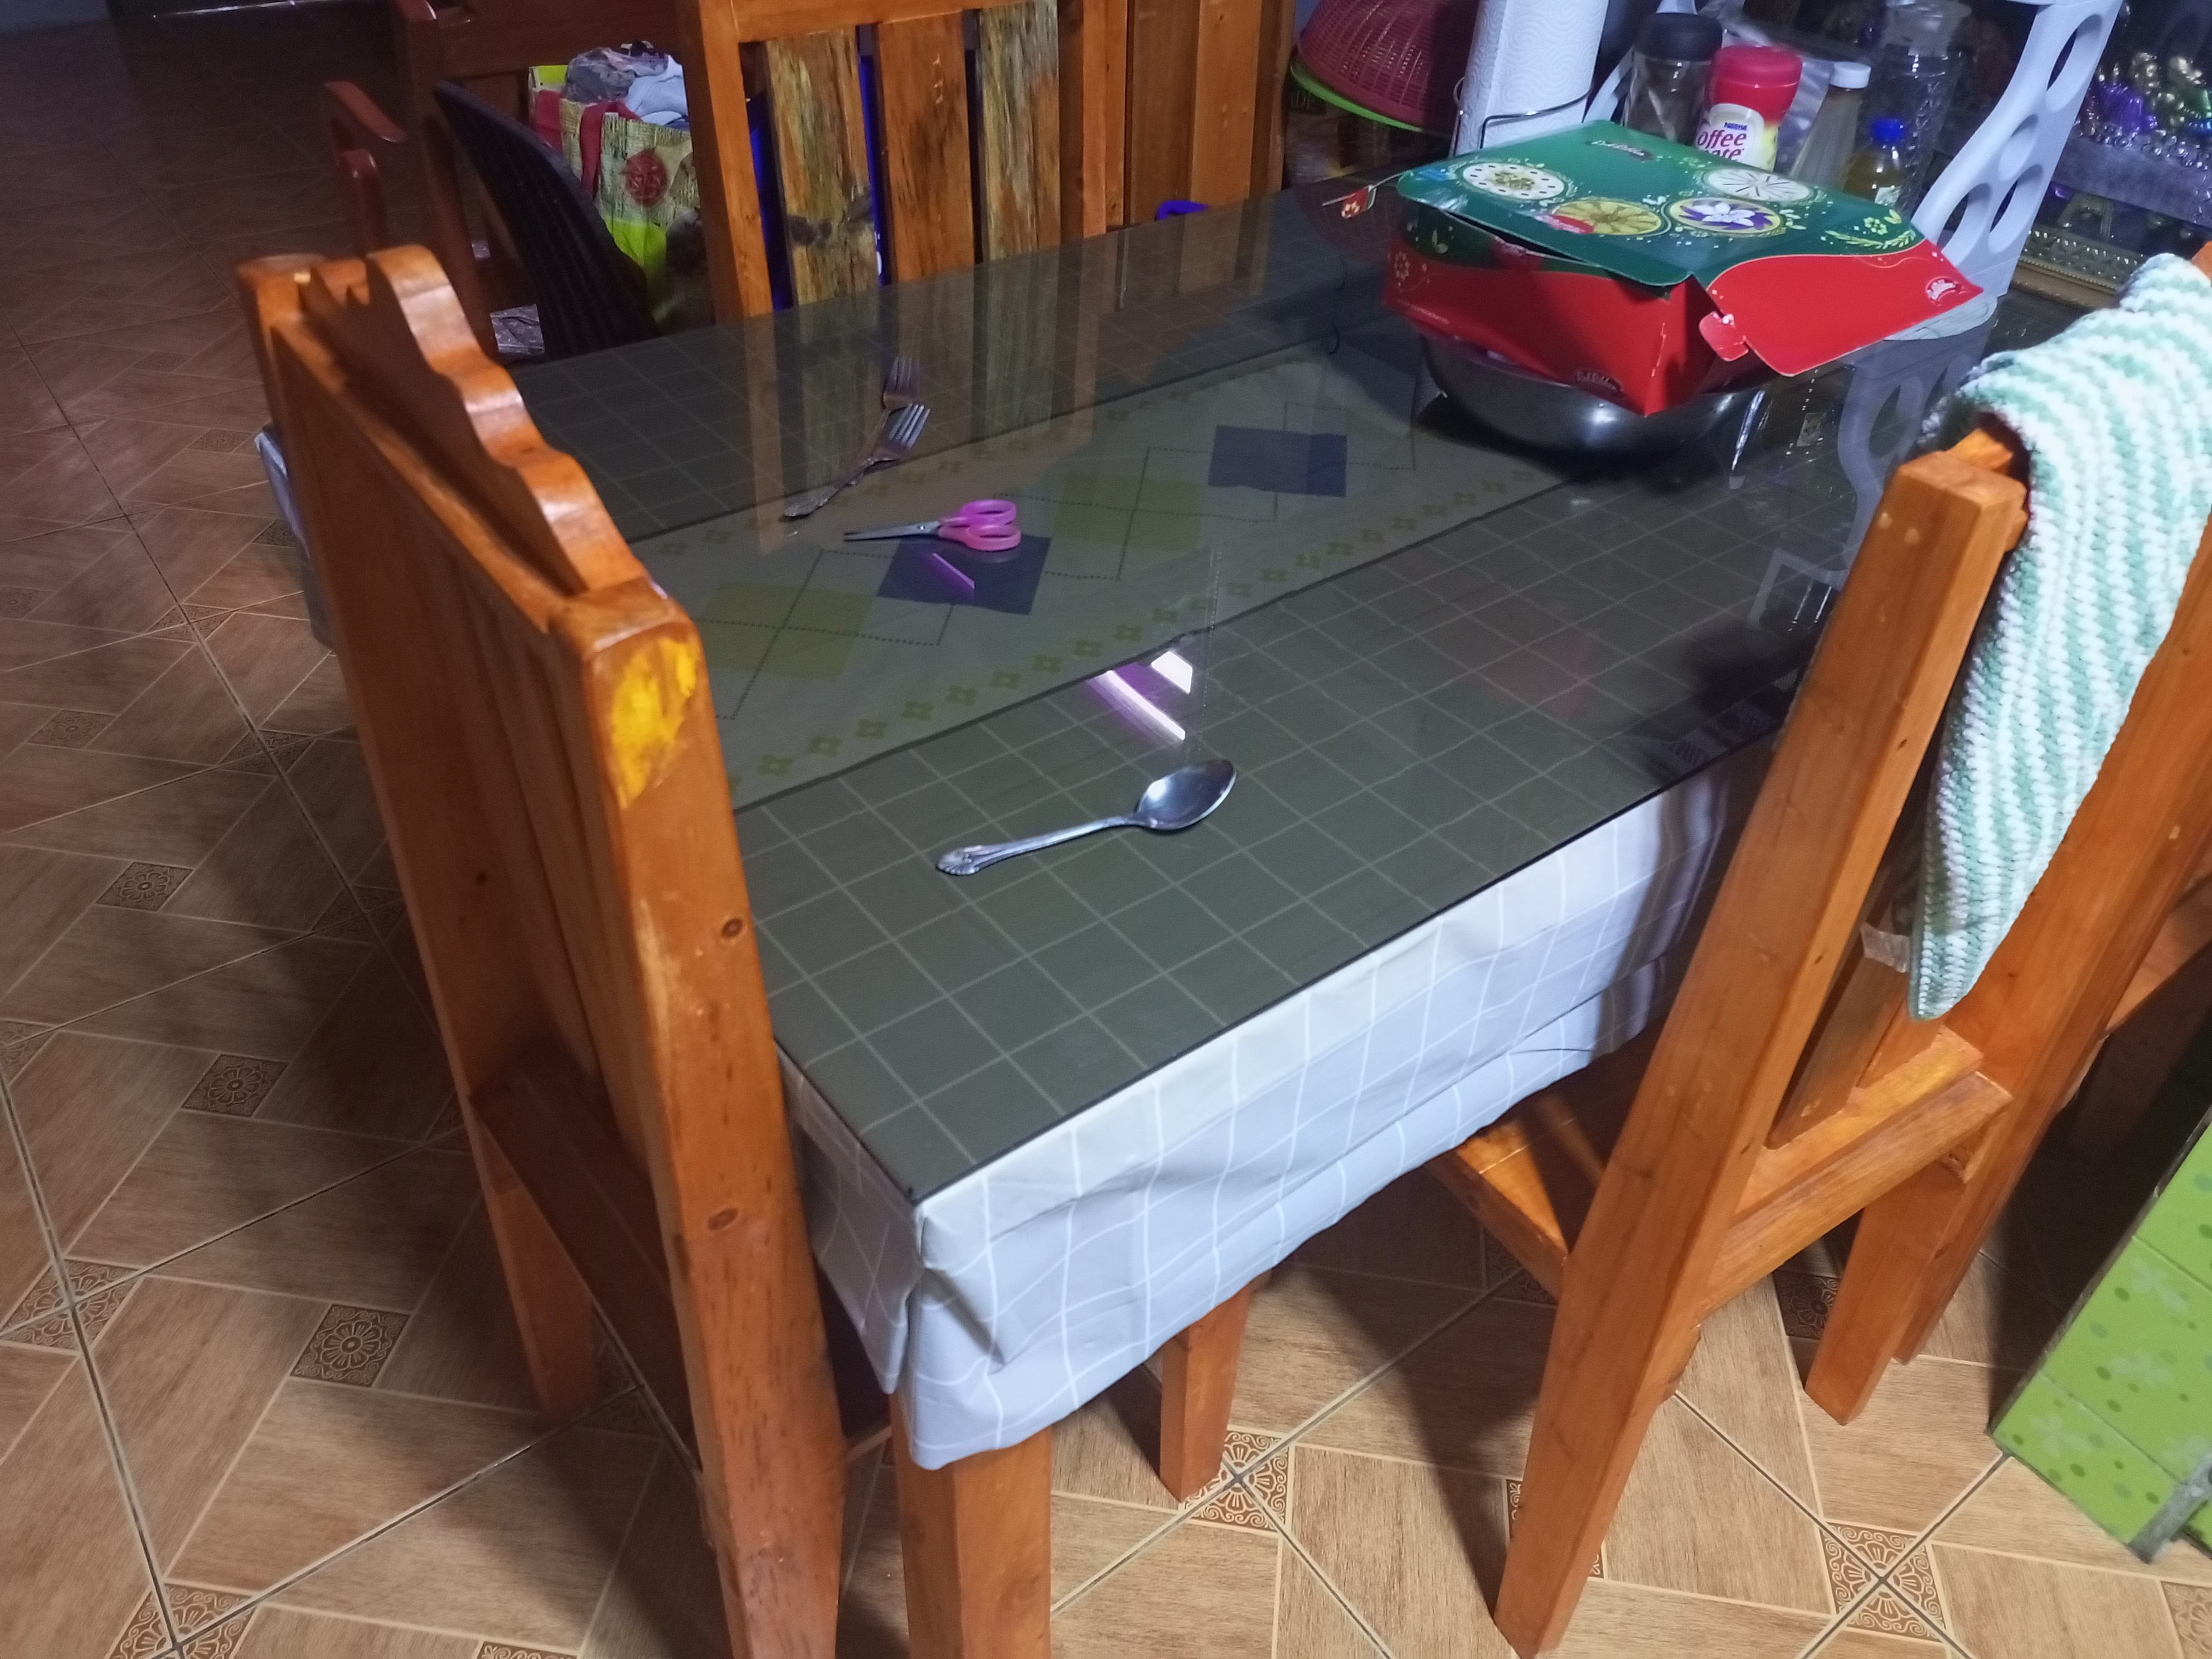spoon: (920, 756, 1238, 878)
